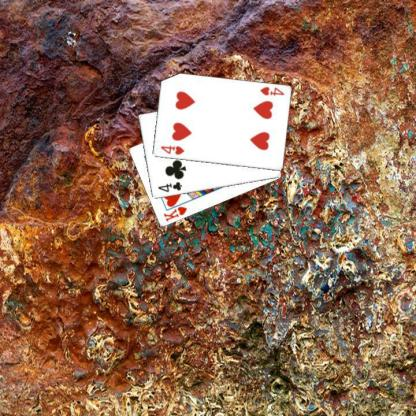4C: (155, 180, 183, 194)
4H: (158, 143, 185, 156), (258, 84, 285, 97)
KH: (162, 204, 188, 223)
